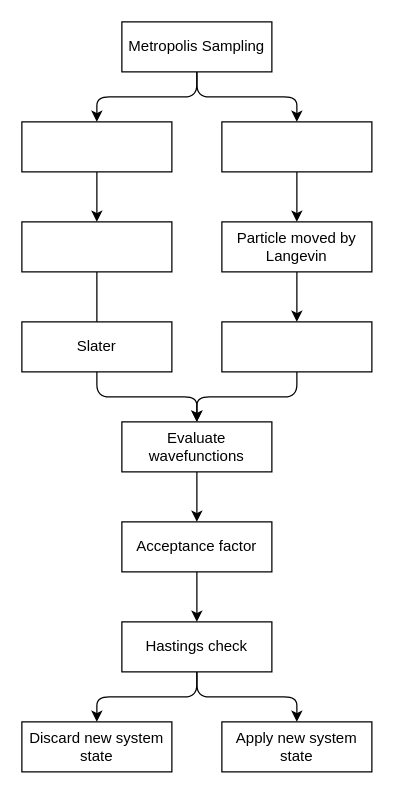
This 394x794 diagram has some shape labels left out. The shapes that lost their labels are listed below. From the top down, each one's centre as x and y in pixels, then its label:
the point at 96,146: Random particle change proposition
the point at 296,146: Quantum force particle change proposition
the point at 96,246: Random particle Moved randomly (-0.5, 0,5) * step size
the point at 296,346: Greens
